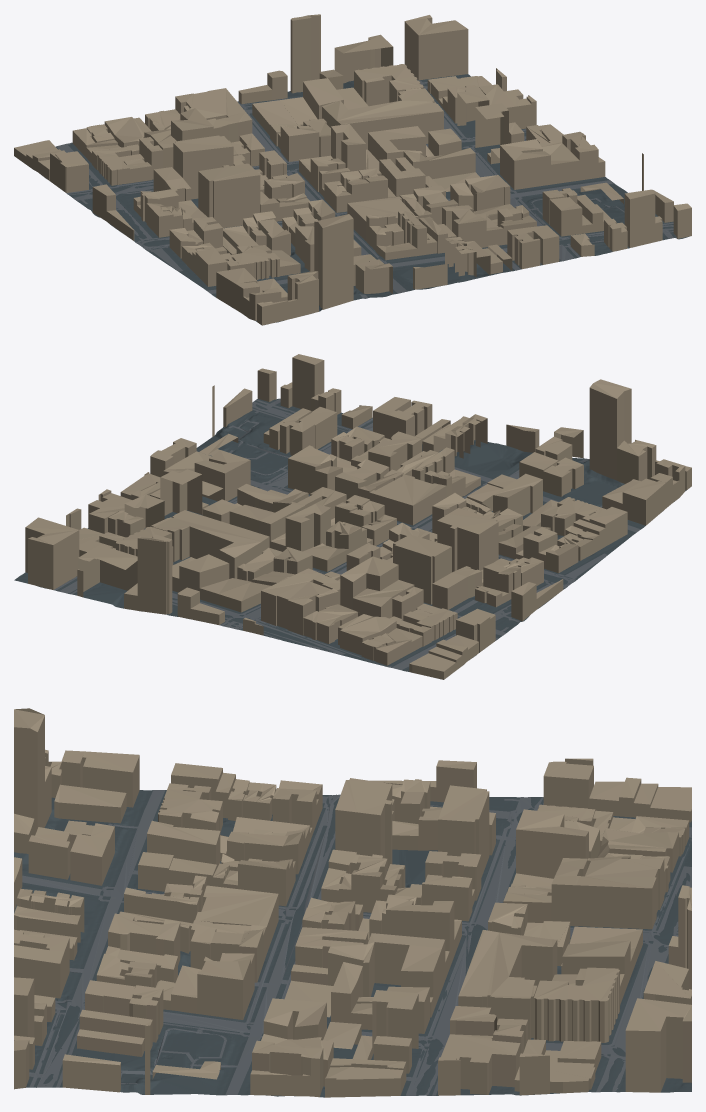
Rendered from epsg26910-1436-10890.lod0.glb.
The picture shows the model from 3 angles, top to bottom: view 1: azimuth 30°, elevation 25°; view 2: azimuth 150°, elevation 25°; view 3: azimuth 270°, elevation 25°; orthographic projection. The views are drawn at different scales.
Visible parts, largest first — view 1: epsg26910-1436-10890-lod0; view 2: epsg26910-1436-10890-lod0; view 3: epsg26910-1436-10890-lod0.
Boxes of the visible parts, x1=… form: epsg26910-1436-10890-lod0: x1=14, y1=14, x2=691, y2=325; epsg26910-1436-10890-lod0: x1=14, y1=354, x2=691, y2=679; epsg26910-1436-10890-lod0: x1=14, y1=708, x2=691, y2=1097.
Bounding box in the file's own units: 384 × 91.06 × 384.
